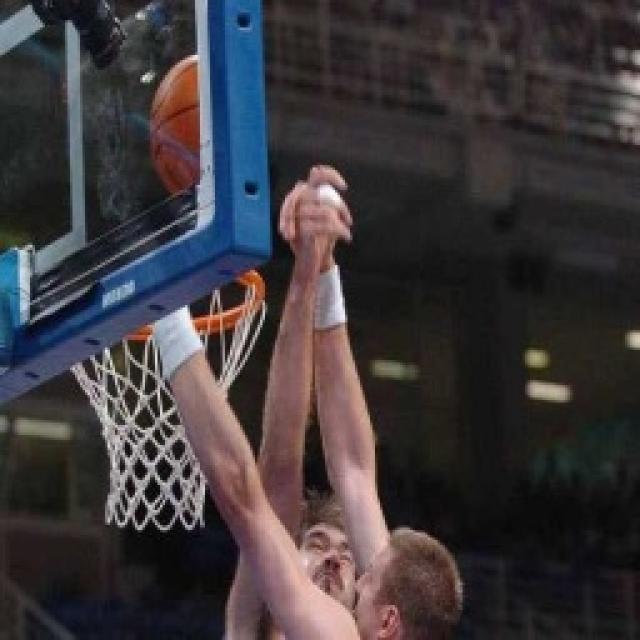basketball: (146, 53, 228, 194)
